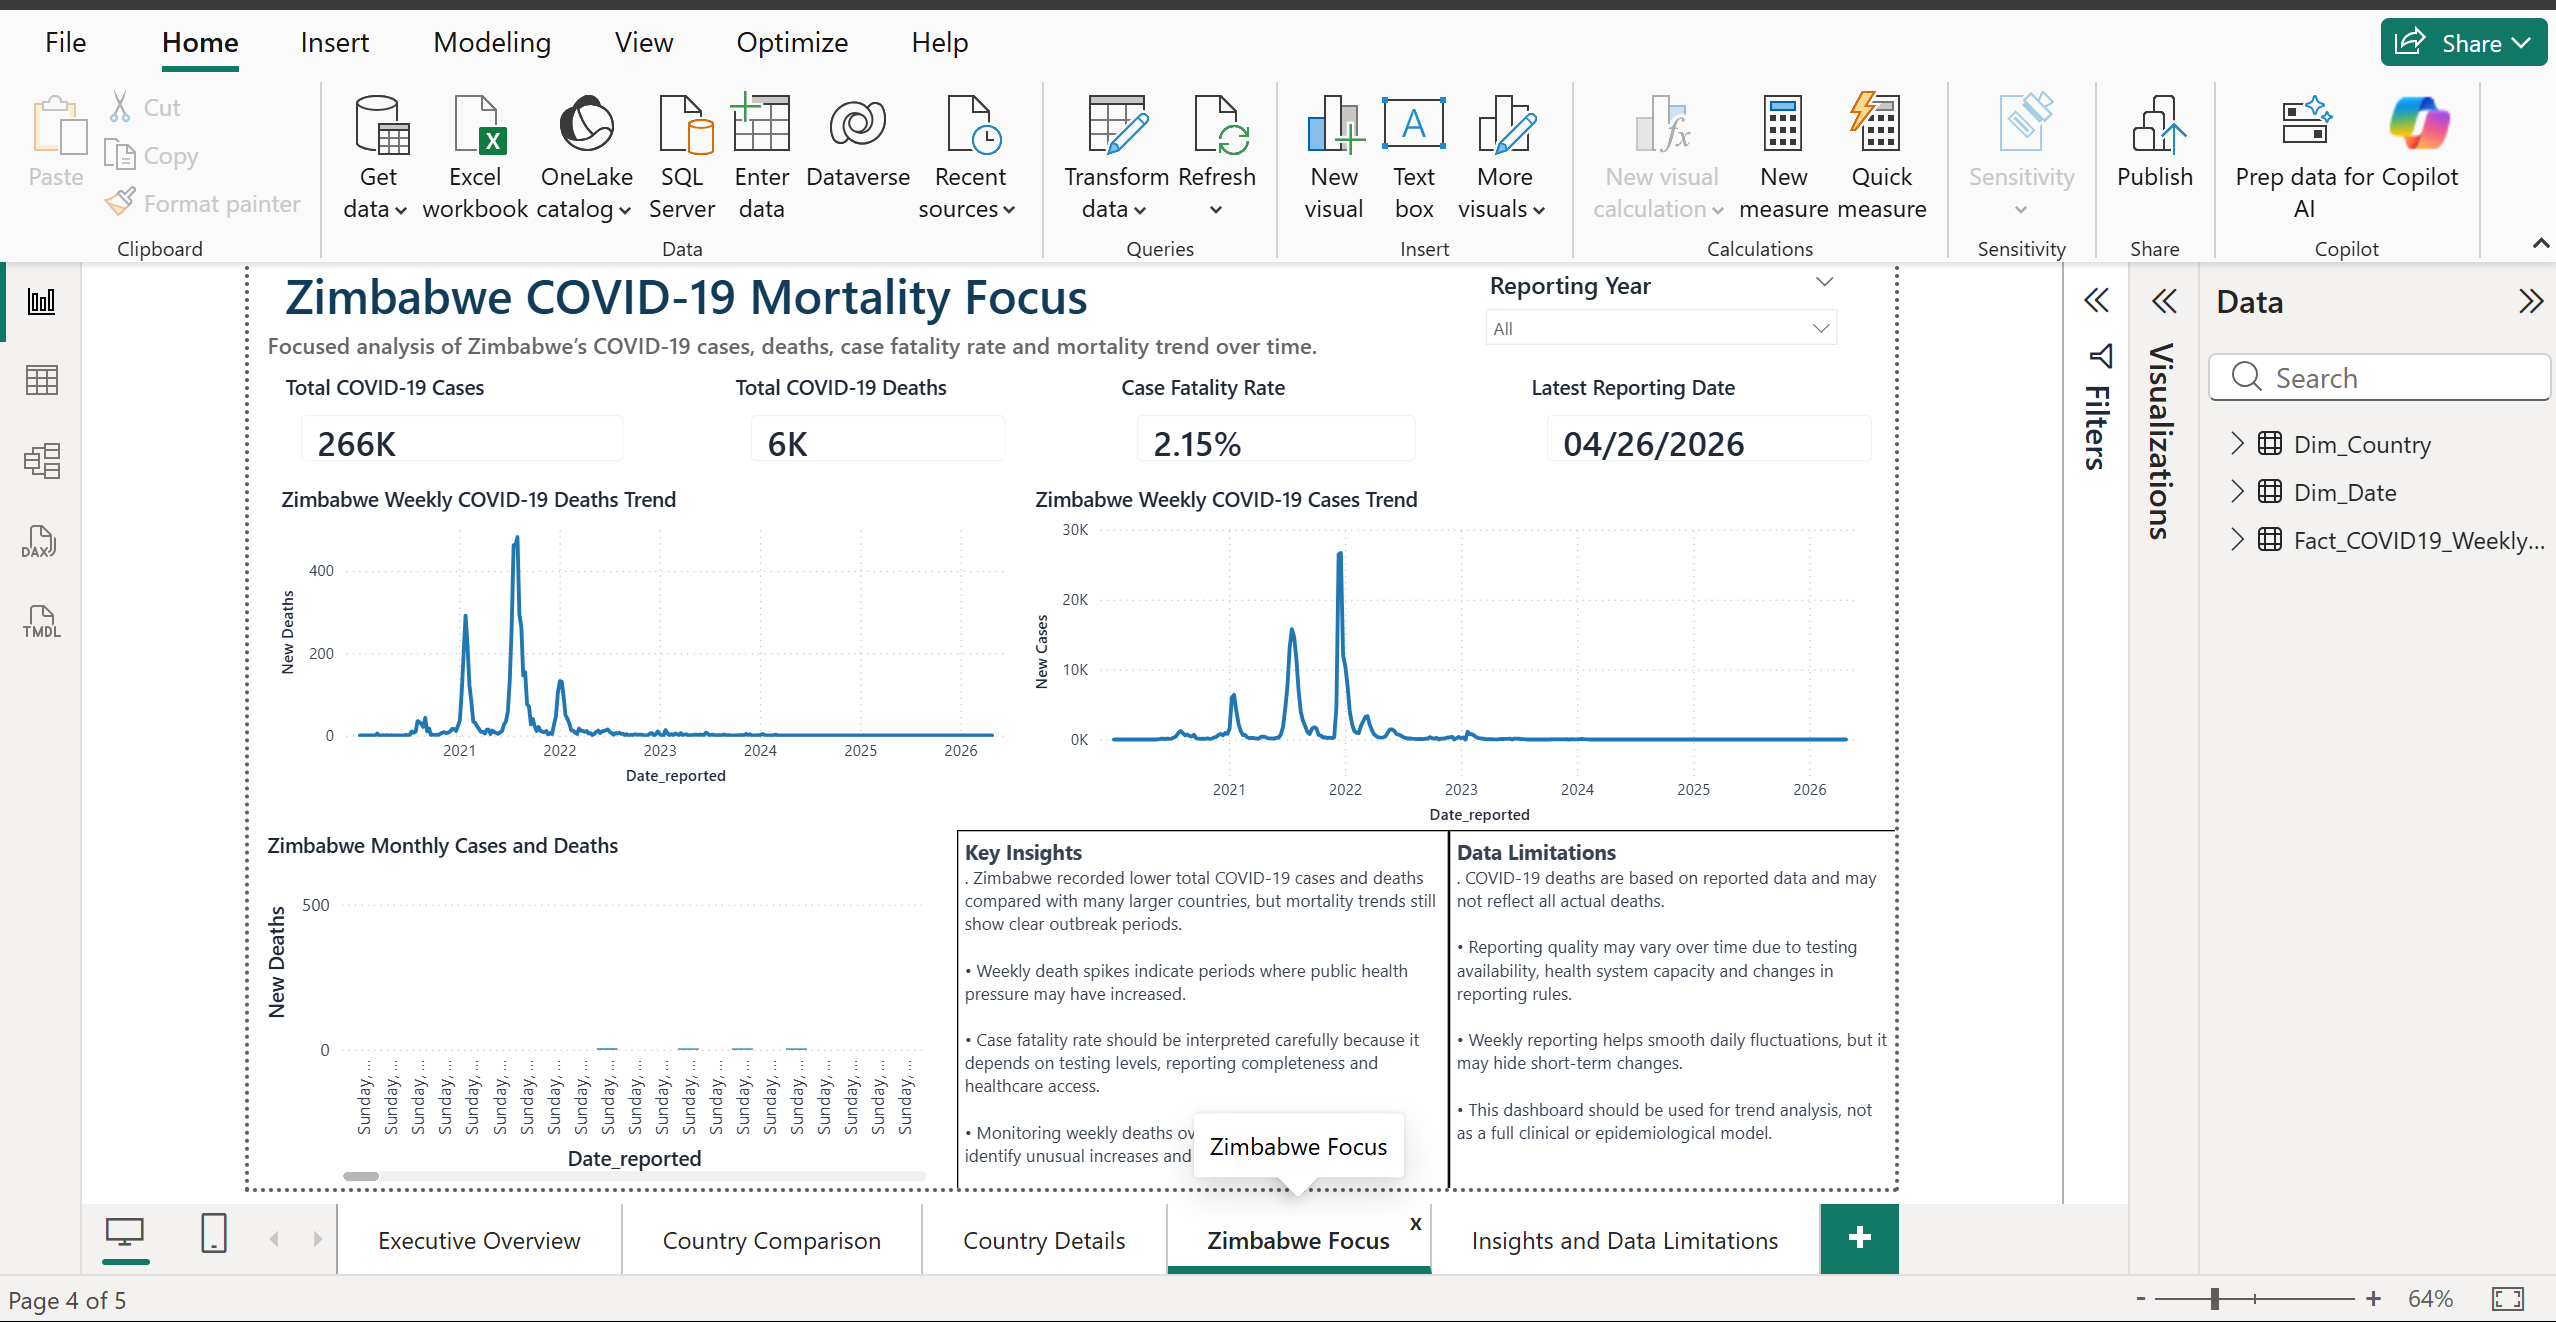

What the dashboard file says about the page in this screenshot:
{"tool":"powerbi","page":{"name":"Zimbabwe Focus","canvas":[1280,720],"ordinal":3},"visuals":[{"type":"textbox","title":"Zimbabwe COVID-19 Mortality Focus","box":[23.3,0,699.8,52.9],"z":0},{"type":"textbox","title":"Focused analysis of Zimbabwe’s COVID-19 cases, deaths, case fatality rate and mortality trend over time.","box":[9.5,53,871,32.2],"z":1000},{"type":"cardVisual","title":"Total COVID-19 Cases","fields":{"Data":["Fact_COVID19_Weekly_WHO.Total Cases"]},"box":[22.7,85.2,285.9,87.1],"z":2000},{"type":"cardVisual","title":"Total COVID-19 Deaths","fields":{"Data":["Fact_COVID19_Weekly_WHO.Total Deaths"]},"box":[373,85.2,232.9,87.1],"z":3000},{"type":"cardVisual","title":"Case Fatality Rate","fields":{"Data":["Fact_COVID19_Weekly_WHO.Case Fatality Rate"]},"box":[674.1,85.2,251.8,87.1],"z":4000},{"type":"cardVisual","title":"Latest Reporting Date","fields":{"Data":["Fact_COVID19_Weekly_WHO.Latest Reporting Date"]},"box":[992.2,85.2,287.8,87.1],"z":5000},{"type":"lineChart","title":"Zimbabwe Weekly COVID-19 Deaths Trend","fields":{"Y":["Sum(Fact_COVID19_Weekly_WHO.New_deaths)"],"Category":["Dim_Date.Date_reported"]},"box":[20.8,172.3,575.6,238.6],"z":6000},{"type":"lineChart","title":"Zimbabwe Weekly COVID-19 Cases Trend","fields":{"Category":["Fact_COVID19_Weekly_WHO.Date_reported"],"Y":["Fact_COVID19_Weekly_WHO.New Cases"]},"box":[605.9,172.3,653.3,268.9],"z":7000},{"type":"clusteredColumnChart","title":"Zimbabwe Monthly Cases and Deaths","fields":{"Category":["Fact_COVID19_Weekly_WHO.Date_reported"],"Y":["Fact_COVID19_Weekly_WHO.New Deaths"]},"box":[9.5,441.2,522.6,278.3],"z":8000},{"type":"textbox","box":[551,441.2,382.5,284],"z":9000},{"type":"textbox","box":[933.5,441.2,348.4,282.1],"z":10000},{"type":"slicer","fields":{"Values":["Fact_COVID19_Weekly_WHO.Year"]},"box":[952.4,0,293.5,70.1],"z":11000}]}

Visuals, with their boxes on the page's 1280x720 design canvas (x1, y1, x2, y2). These are canvas units, not pixel positions in the 2556x1322 screenshot, which may show the page scaled, cropped or inside an application window:
"Zimbabwe COVID-19 Mortality Focus" textbox: (23, 0, 723, 53)
"Focused analysis of Zimbabwe’s COVID-19 cases, deaths, case fatality rate and mortality trend over time." textbox: (10, 53, 880, 85)
"Total COVID-19 Cases" cardVisual: (23, 85, 309, 172)
"Total COVID-19 Deaths" cardVisual: (373, 85, 606, 172)
"Case Fatality Rate" cardVisual: (674, 85, 926, 172)
"Latest Reporting Date" cardVisual: (992, 85, 1280, 172)
"Zimbabwe Weekly COVID-19 Deaths Trend" lineChart: (21, 172, 596, 411)
"Zimbabwe Weekly COVID-19 Cases Trend" lineChart: (606, 172, 1259, 441)
"Zimbabwe Monthly Cases and Deaths" clusteredColumnChart: (10, 441, 532, 720)
textbox: (551, 441, 934, 725)
textbox: (934, 441, 1282, 723)
slicer - Fact_COVID19_Weekly_WHO.Year: (952, 0, 1246, 70)
